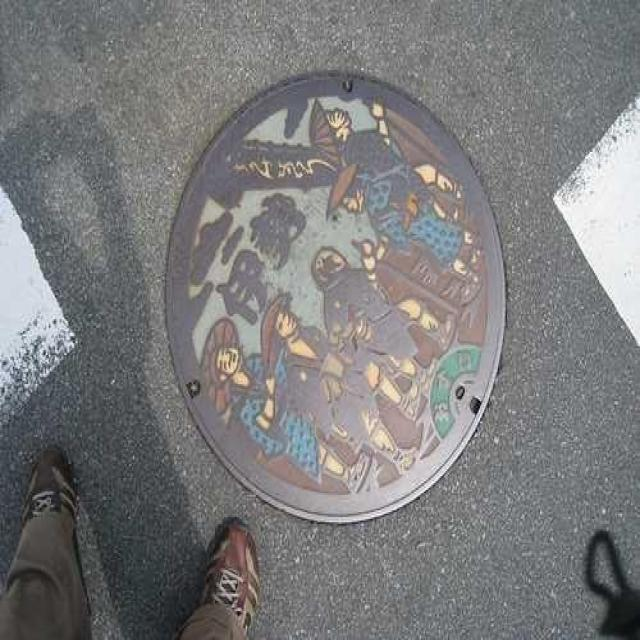manhole: (161, 72, 508, 527)
